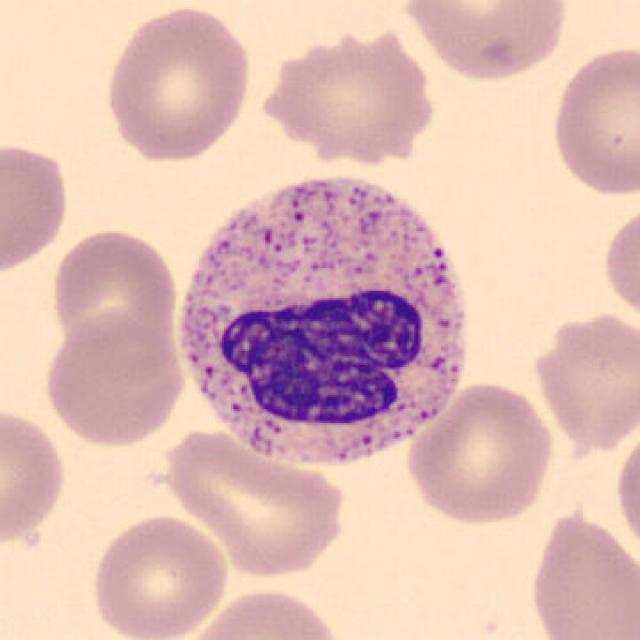Neutrophil: (166, 155, 484, 487)
RBC: (155, 425, 350, 582), (249, 18, 441, 168), (100, 2, 256, 165), (402, 377, 558, 529), (39, 305, 190, 450), (87, 509, 233, 640), (46, 224, 183, 360), (526, 305, 638, 453), (524, 502, 640, 640), (398, 0, 572, 85), (546, 41, 638, 201), (0, 402, 71, 552), (0, 136, 73, 278), (179, 583, 346, 640), (599, 199, 638, 328), (611, 419, 640, 559)
